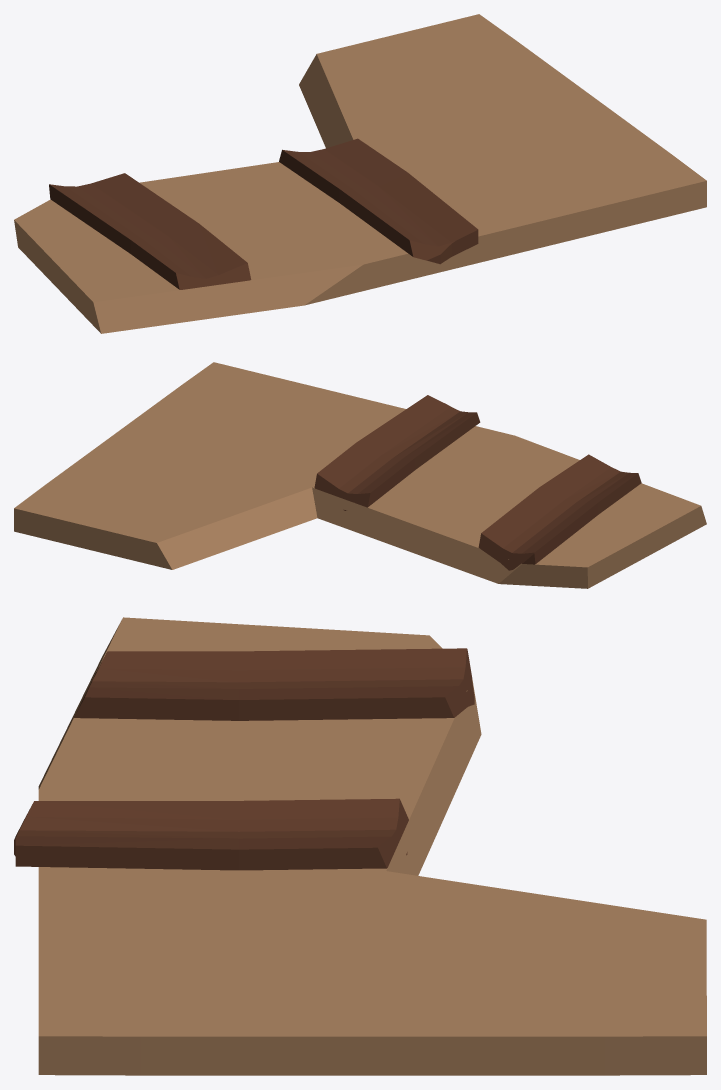
The model's file is SM_debris_door.fbx.
3 renders of one model, top to bottom at view 1: azimuth 30°, elevation 25°; view 2: azimuth 150°, elevation 25°; view 3: azimuth 270°, elevation 25°, orthographic. The views are drawn at different scales.
Visible parts, largest first — view 1: debris_door; view 2: debris_door; view 3: debris_door.
Part boxes in pixels (box(x1,y1,x2,y2)): debris_door: box(14, 14, 706, 333); debris_door: box(14, 362, 706, 588); debris_door: box(14, 617, 706, 1075).
Bounding box in the file's own units: 231 × 15.48 × 161.
